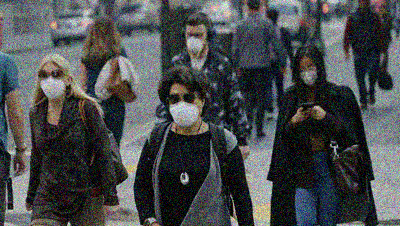with_mask: (166, 91, 200, 128), (184, 30, 206, 56), (297, 63, 318, 87)
